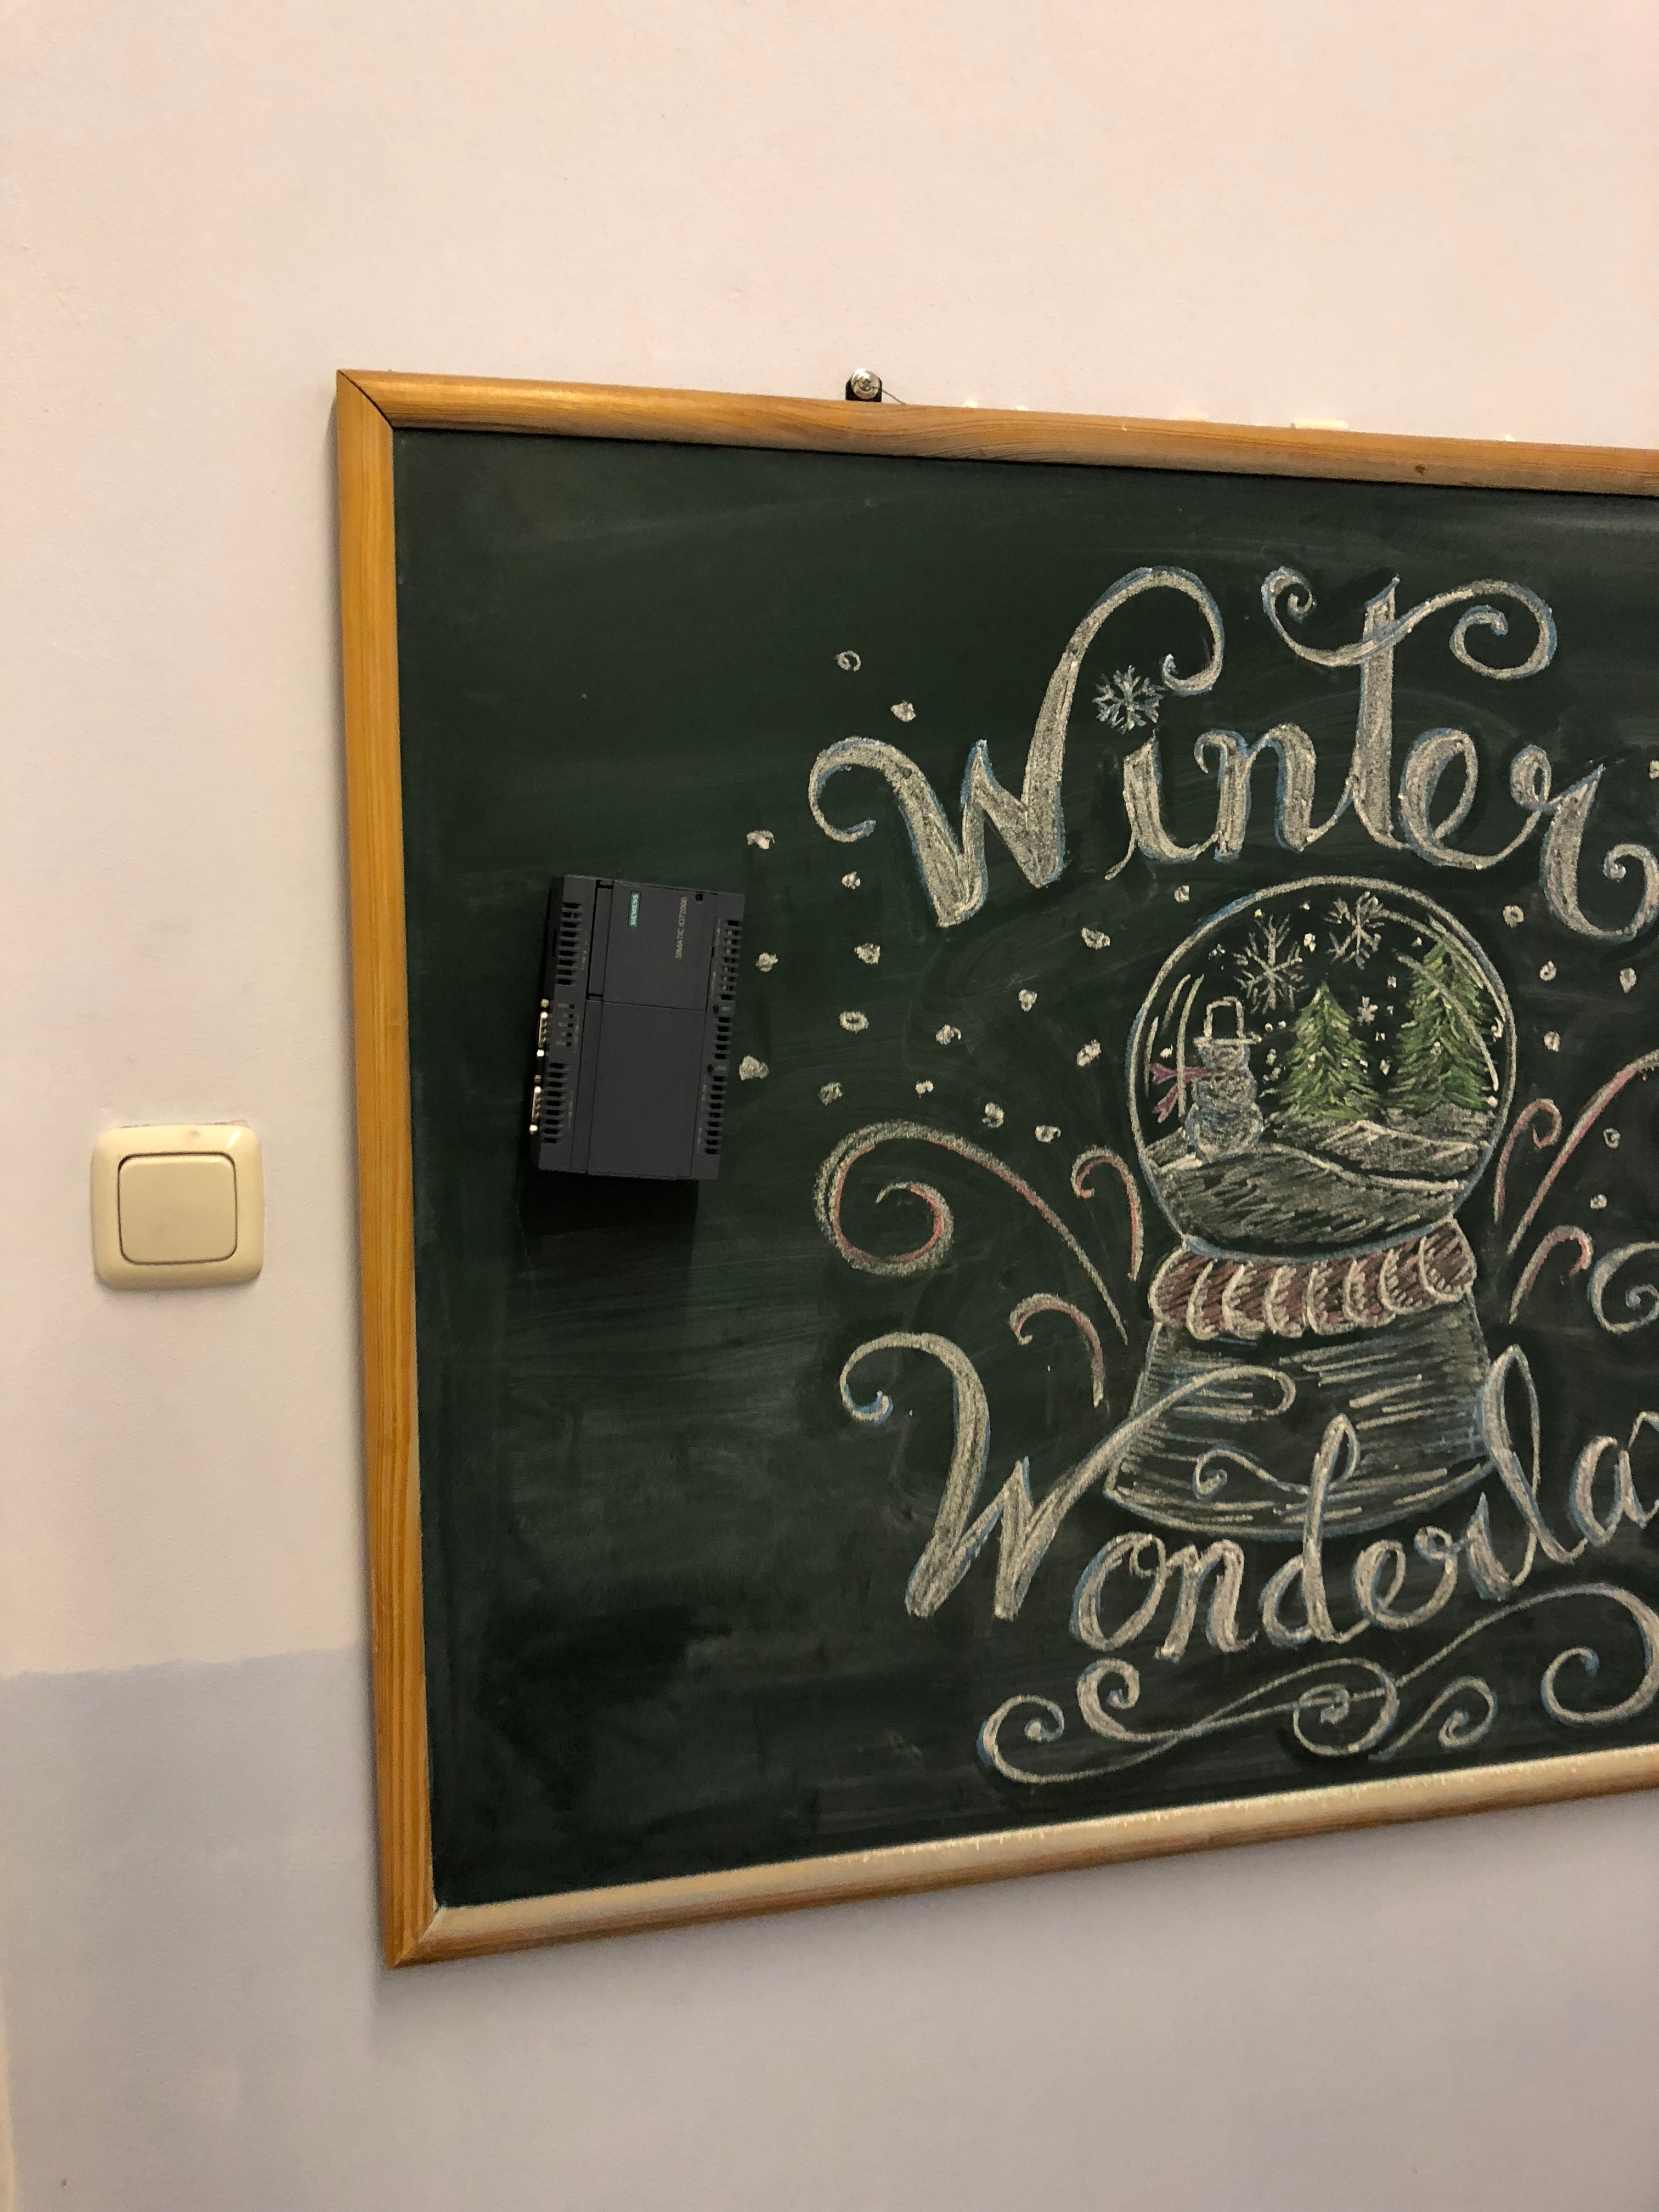device: (530, 874, 746, 1181)
